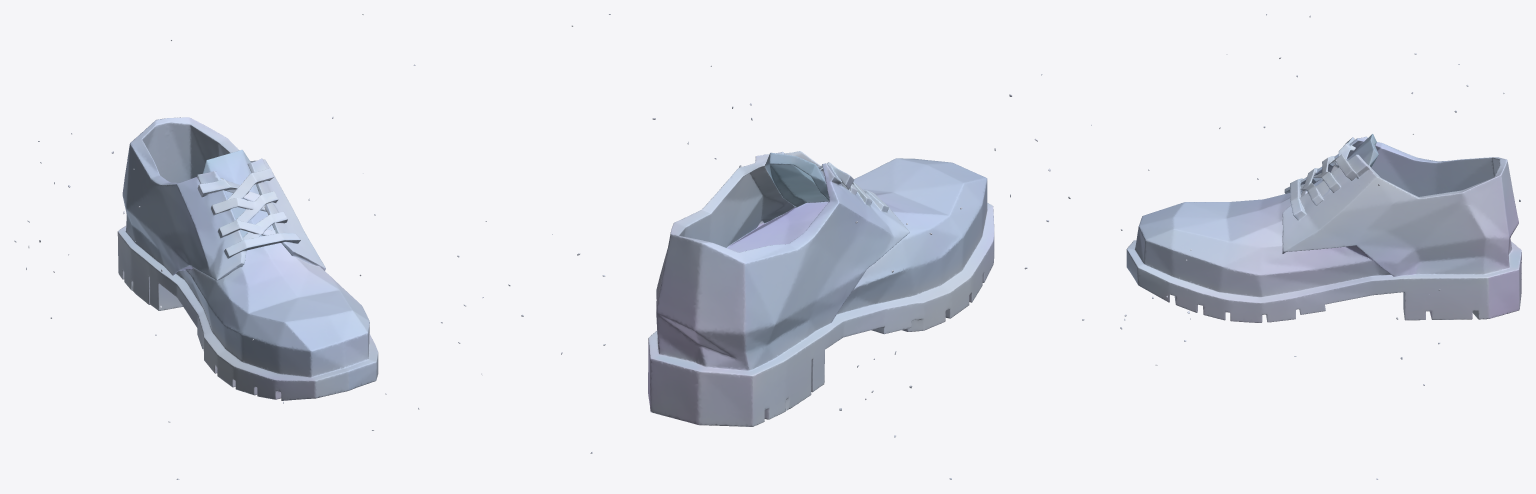
Rendered from lowpoly-shoe-escape.glb.
3 views of the same model, side by side, from view 1: azimuth 30°, elevation 25°; view 2: azimuth 150°, elevation 25°; view 3: azimuth 270°, elevation 25° (orthographic). The views are drawn at different scales.
Parts seen in each view (by area): view 1: geometry_0; view 2: geometry_0; view 3: geometry_0.
Part boxes in pixels (x1,y1,x2,y2): geometry_0: [14, 14, 523, 479]; geometry_0: [552, 14, 1091, 479]; geometry_0: [1120, 14, 1521, 479].
Bounding box in the file's own units: 0.9144 × 0.9465 × 1.
1 material, 1 textured.
